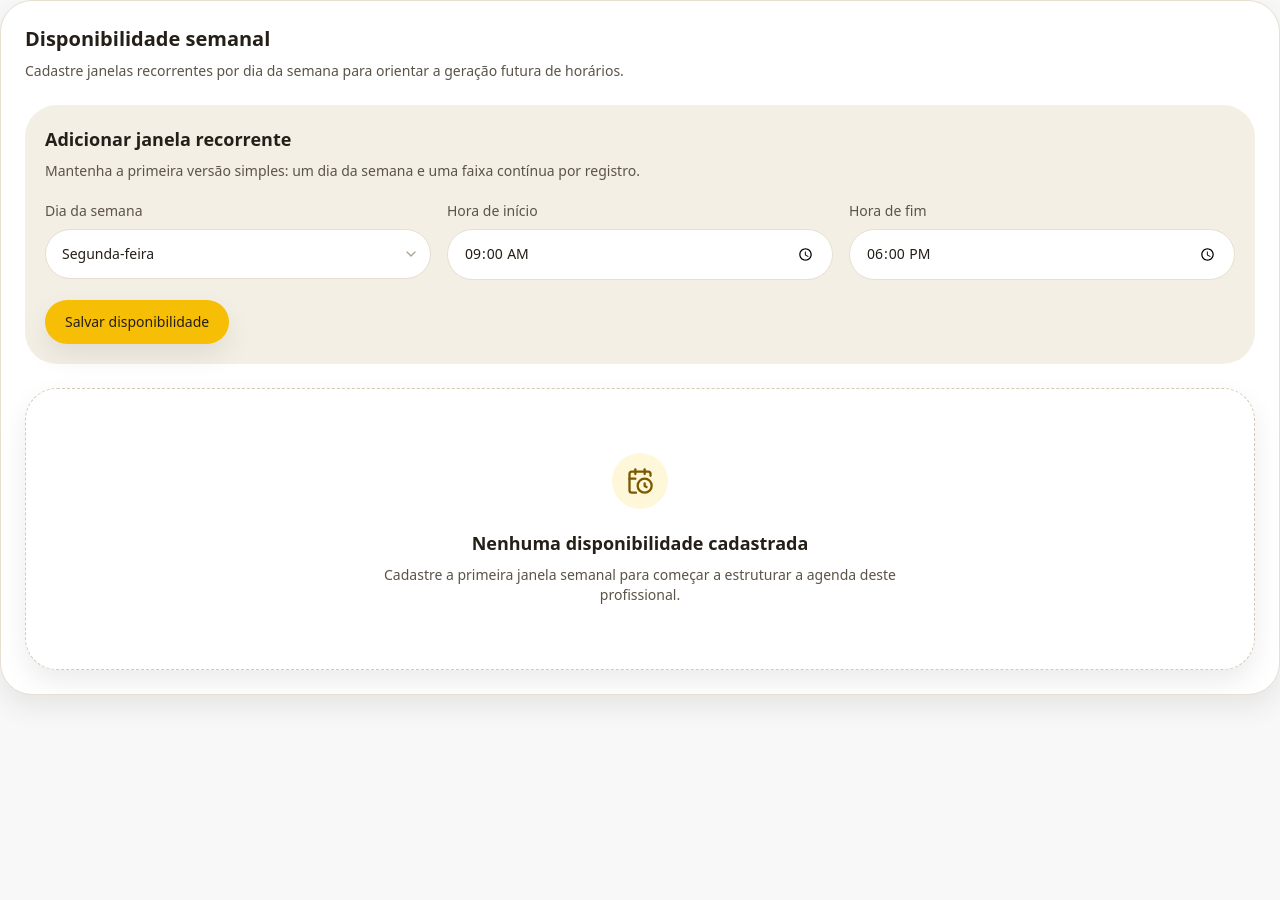
Scenario: ProfessionalAvailabilityManager › validates weekly windows before creating availability
Replace the text in the time field showing "Hora de início" with "18:00" at [640, 254], box [447,229,833,280]
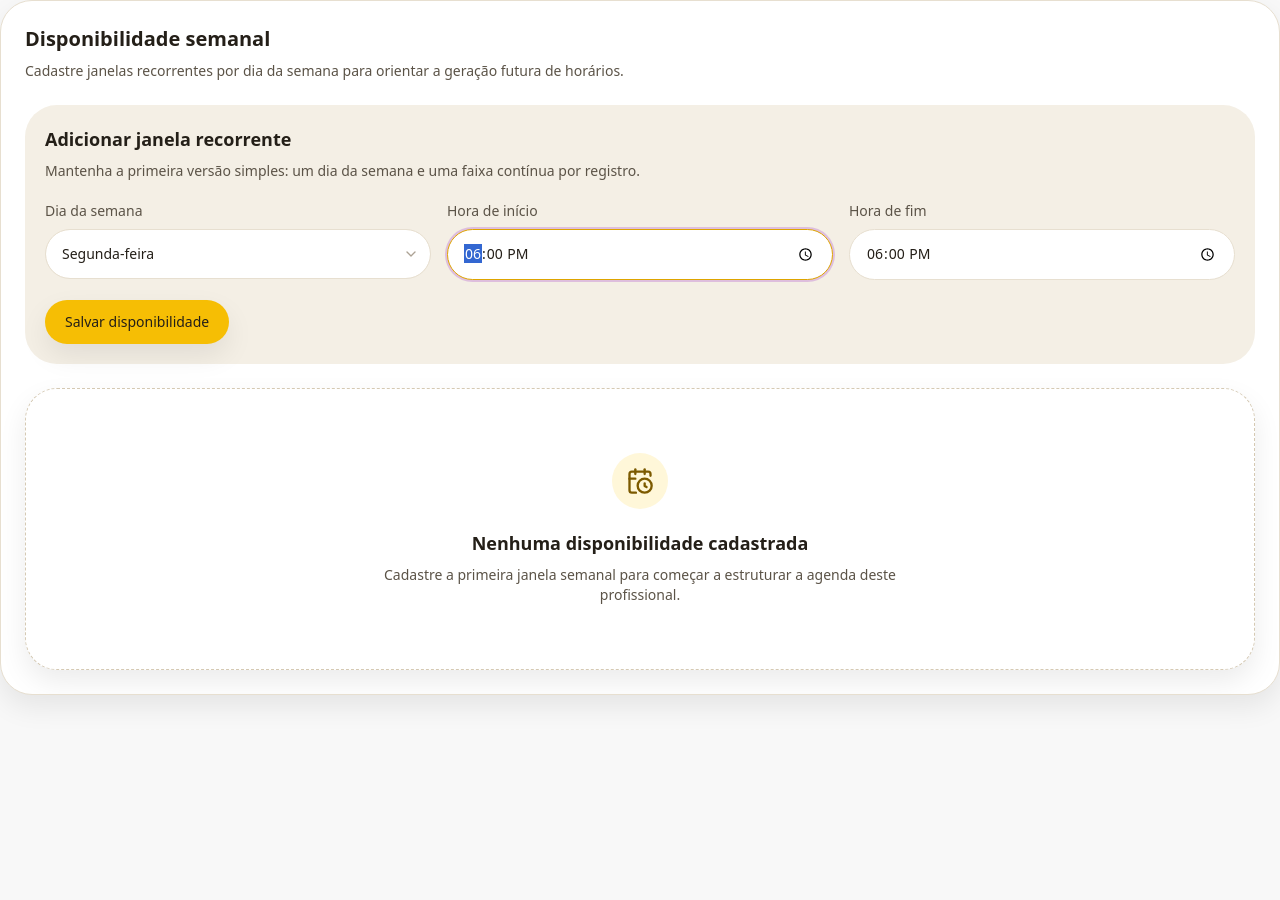
Replace the text in the time field showing "Hora de fim" with "09:00" at [1042, 254], box [849,229,1235,280]
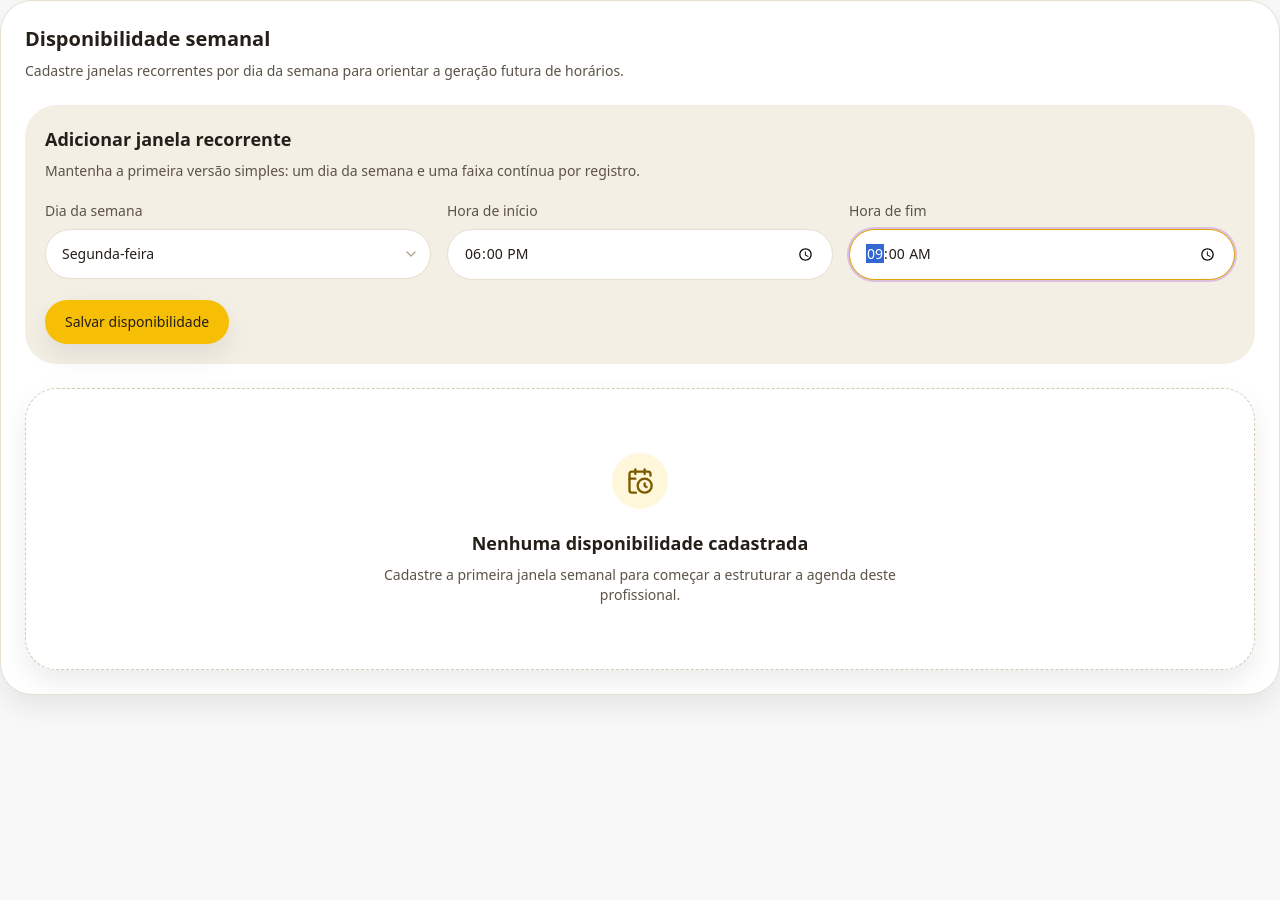
Click the button "Salvar disponibilidade" at [137, 322], box [45,300,229,344]
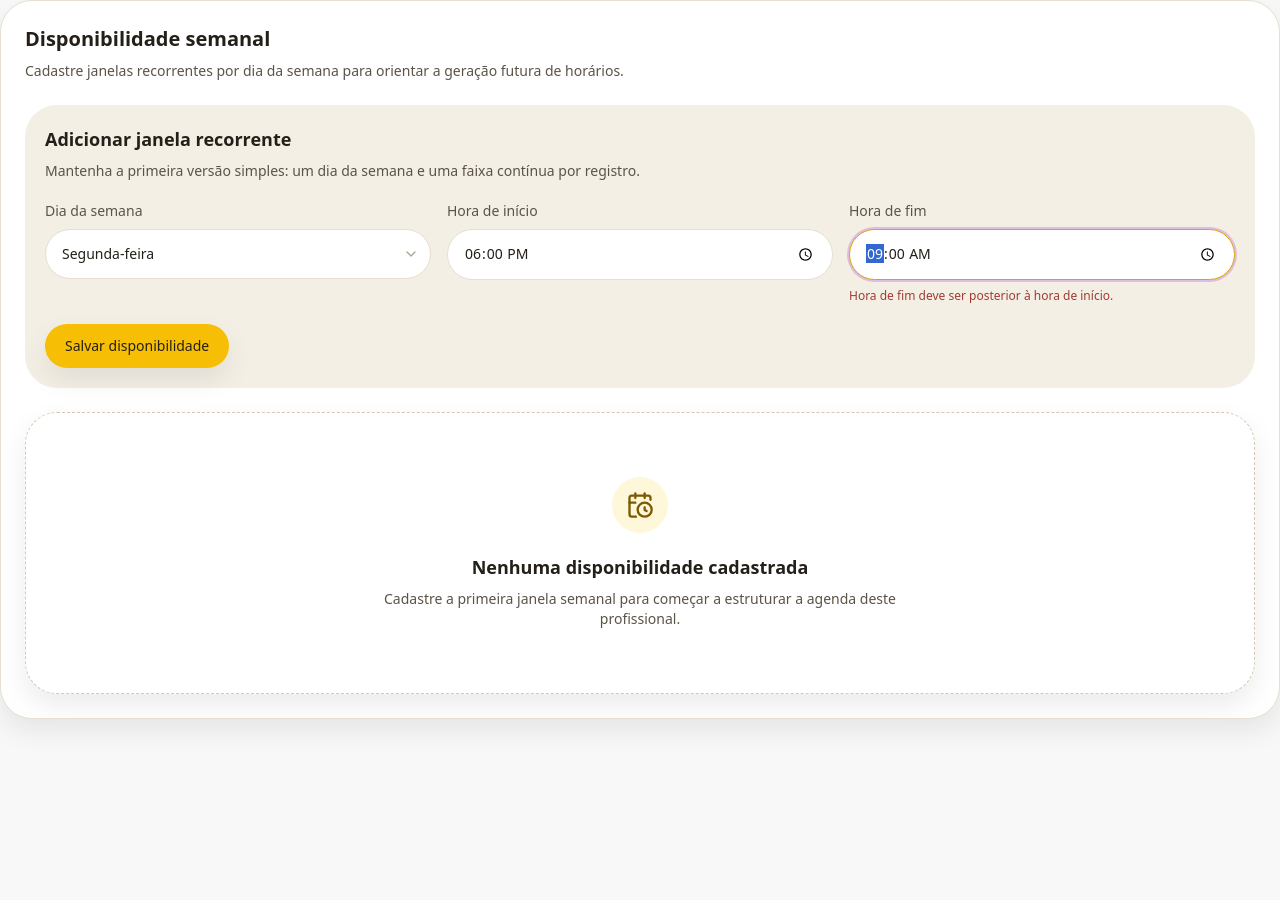
Now the text "Hora de fim deve ser posterior à hora de início." is shown, box [849,287,1113,304]
